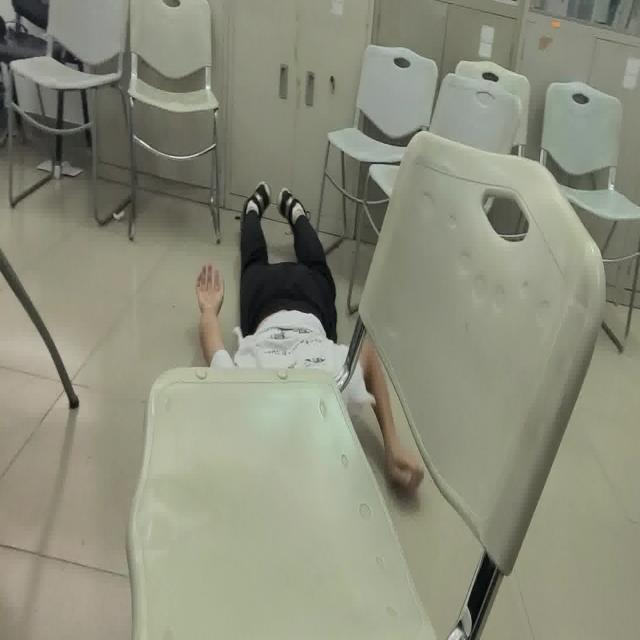fall: (192, 181, 424, 514)
